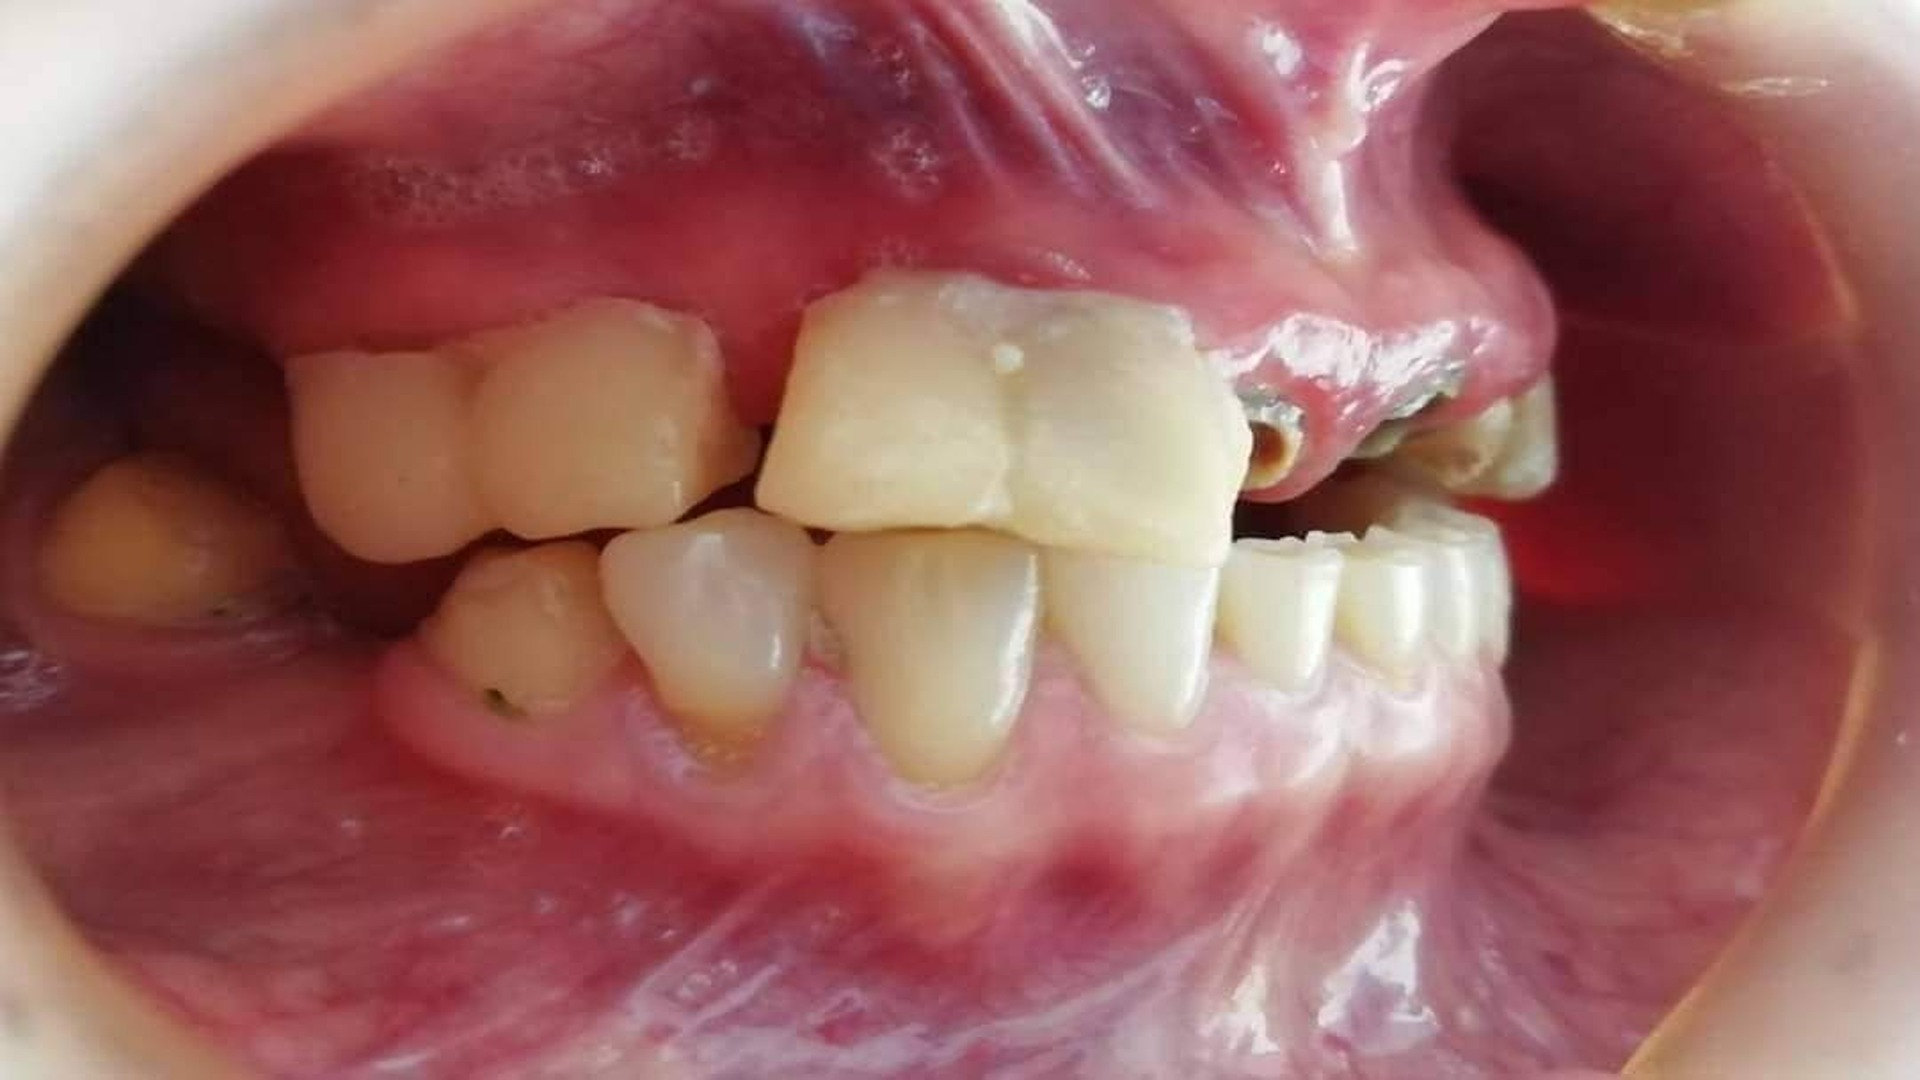tooth: (1005, 291, 1254, 566), (754, 272, 1013, 533), (467, 299, 723, 541), (597, 506, 819, 774), (818, 529, 1044, 789), (284, 351, 502, 564), (418, 541, 632, 716), (1042, 549, 1220, 731), (1320, 525, 1480, 691), (1215, 535, 1342, 692)
